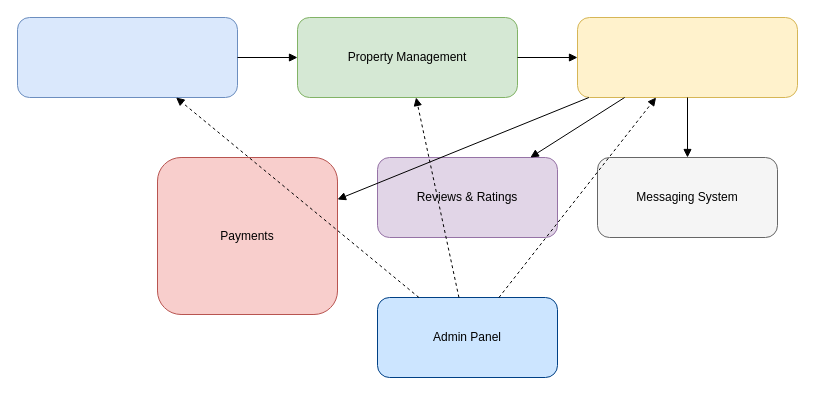
This 815x395 diagram has some shape labels left out. The centre of each missing label's shape, as x and y in pixels:
Booking System: the point at 687,57
User Authentication & Management: the point at 127,57
